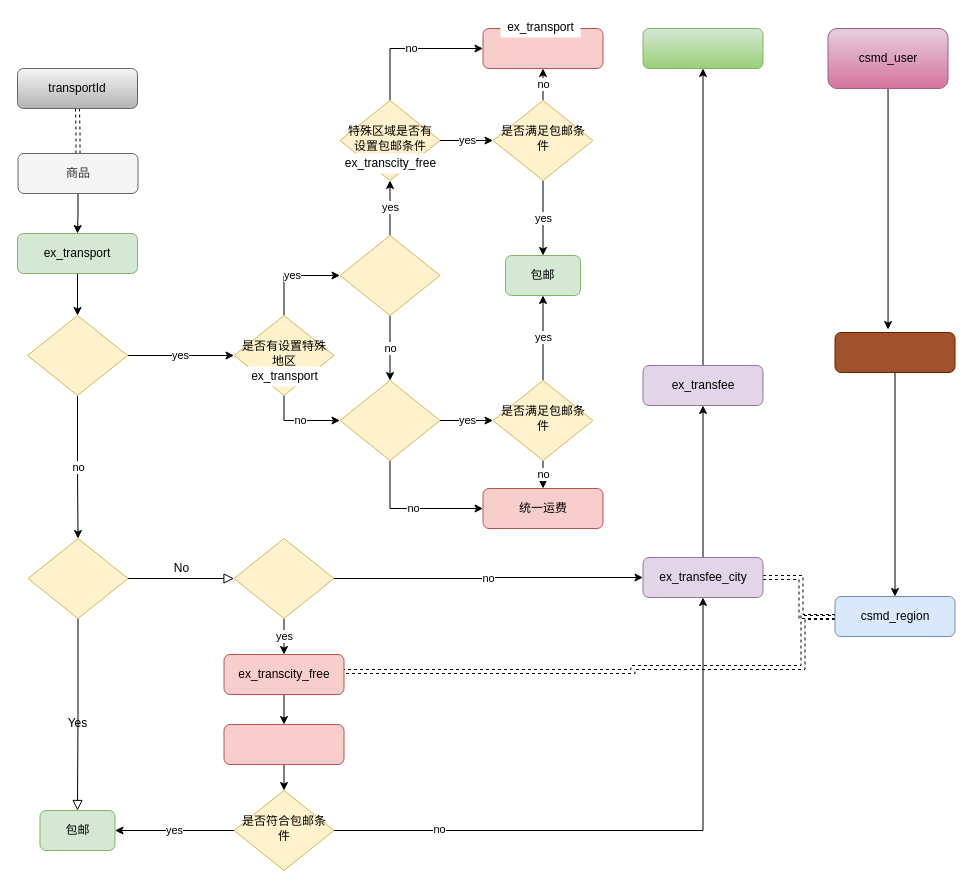
This 973x888 diagram has some shape labels left out. The shapes that lost their labels are listed below. From the top down, each one's centre as x and y in pixels, then its label:
point (542, 48): 特殊区域运费
point (702, 48): 模板运费
point (389, 275): 是否在特殊地区内
point (77, 355): 是否设置店铺运费
point (894, 352): csmd_address
point (389, 420): 统一运费项是否有设置包邮条件
point (77, 578): 是否包邮
point (283, 578): 是否含有包邮条件
point (283, 744): ex_transfee_free
